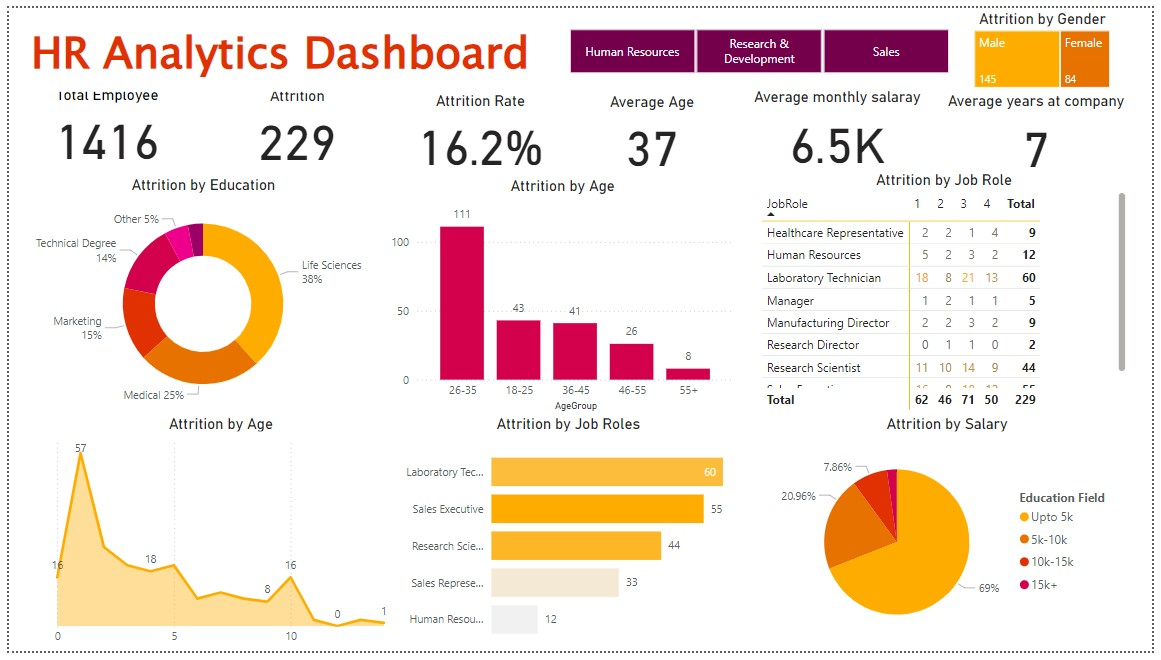

This screenshot's page, from the dashboard's own definition file:
{"tool":"powerbi","page":{"name":"Page 1","canvas":[1280,720],"ordinal":0},"visuals":[{"type":"card","title":"Total Employee","fields":{"Values":["CountNonNull(HR_Analytics.EmpID)"]},"box":[1.4,87.1,217.1,94.3],"z":0},{"type":"card","title":"Attrition","fields":{"Values":["Sum(HR_Analytics.AttritionCount)"]},"box":[218.6,88.6,208.6,92.9],"z":1000},{"type":"card","title":"Attrition Rate","fields":{"Values":["HR_Analytics.attritionMeasure"]},"box":[422.9,94.3,210,92.9],"z":2000},{"type":"card","title":"Average Age","fields":{"Values":["Avg(HR_Analytics.Age)"]},"box":[625.7,95.7,188.6,92.9],"z":3000},{"type":"card","title":"Average monthly salaray","fields":{"Values":["Avg(HR_Analytics.MonthlyIncome)"]},"box":[814.3,90,225.7,97.1],"z":4000},{"type":"card","title":"Average years at company","fields":{"Values":["Avg(HR_Analytics.YearsAtCompany)"]},"box":[1040,94.3,220,97.1],"z":5000},{"type":"donutChart","title":"Attrition by Education","fields":{"Y":["Sum(HR_Analytics.AttritionCount)"],"Category":["HR_Analytics.EducationField"]},"box":[20,187.1,395.7,268.6],"z":6000},{"type":"columnChart","title":"Attrition by Age","fields":{"Category":["HR_Analytics.AgeGroup"],"Y":["Sum(HR_Analytics.AttritionCount)"]},"box":[422.9,188.6,394.3,267.1],"z":7000},{"type":"pivotTable","title":"Attrition by Job Role","fields":{"Rows":["HR_Analytics.JobRole"],"Columns":["HR_Analytics.JobSatisfaction"],"Values":["Sum(HR_Analytics.AttritionCount)"]},"box":[851.4,181.4,395.7,274.3],"z":8000},{"type":"pieChart","title":"Attrition by Salary","fields":{"Category":["HR_Analytics.SalarySlab"],"Y":["Sum(HR_Analytics.AttritionCount)"]},"box":[852,455.3,395.7,267.1],"z":9000},{"type":"clusteredBarChart","title":"Attrition by Job Roles","fields":{"Category":["HR_Analytics.JobRole"],"Y":["Sum(HR_Analytics.AttritionCount)"]},"box":[427.7,455.3,395.7,268.6],"z":10000},{"type":"areaChart","title":"Attrition by Age","fields":{"Y":["Sum(HR_Analytics.AttritionCount)"],"Category":["HR_Analytics.YearsAtCompany"]},"box":[39.1,455.3,395.7,267.1],"z":11000},{"type":"textbox","box":[20,10,581.4,84.3],"z":12000},{"type":"treemap","title":"Attrition by Gender","fields":{"Group":["HR_Analytics.Gender"],"Values":["Sum(HR_Analytics.AttritionCount)"]},"box":[1075.7,1.4,161.4,92.9],"z":13000},{"type":"slicer","title":"Departments","fields":{"Values":["HR_Analytics.Department"]},"box":[601.4,17.1,474.3,62.9],"z":14000}]}

Visuals, with their boxes in screenshot pixels (x1, y1, x2, y2), scaled from the page's 1280x720 canvas onto the 1161x660 screenshot:
"Total Employee" card: <box>1,80,198,166</box>
"Attrition" card: <box>198,81,387,166</box>
"Attrition Rate" card: <box>384,86,574,172</box>
"Average Age" card: <box>568,88,739,173</box>
"Average monthly salaray" card: <box>739,82,943,172</box>
"Average years at company" card: <box>943,86,1143,175</box>
"Attrition by Education" donutChart: <box>18,172,377,418</box>
"Attrition by Age" columnChart: <box>384,173,741,418</box>
"Attrition by Job Role" pivotTable: <box>772,166,1131,418</box>
"Attrition by Salary" pieChart: <box>773,417,1132,659</box>
"Attrition by Job Roles" clusteredBarChart: <box>388,417,747,659</box>
"Attrition by Age" areaChart: <box>35,417,394,659</box>
textbox: <box>18,9,545,86</box>
"Attrition by Gender" treemap: <box>976,1,1122,86</box>
"Departments" slicer: <box>545,16,976,73</box>
